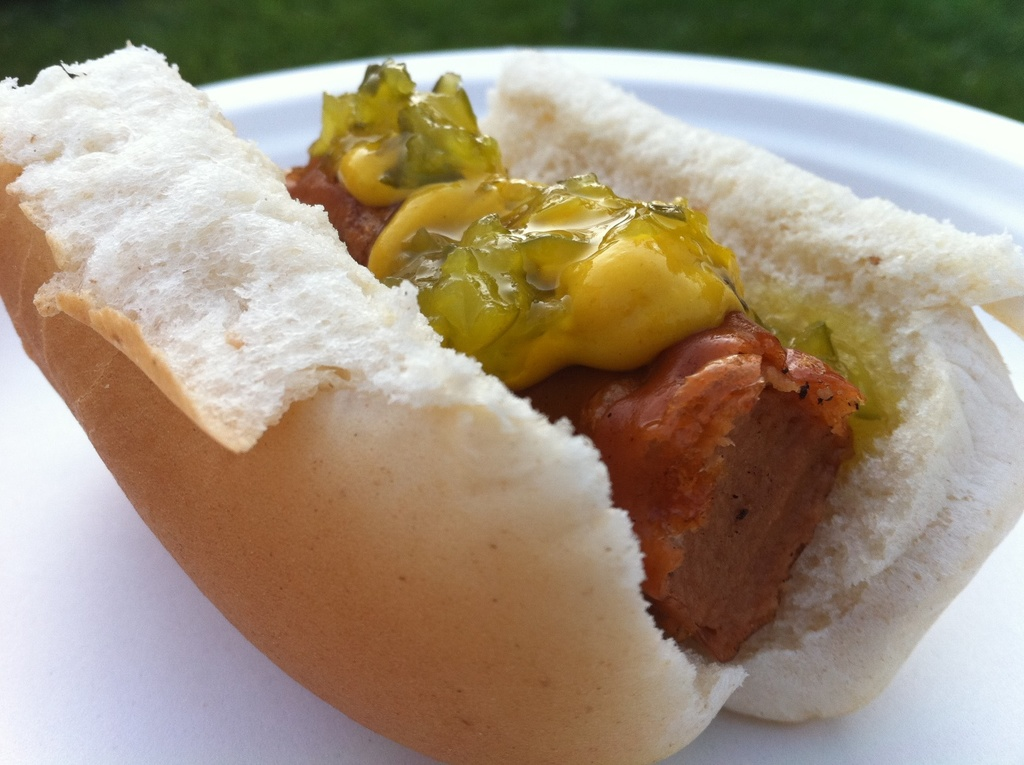hot_dog: (0, 36, 1023, 764)
